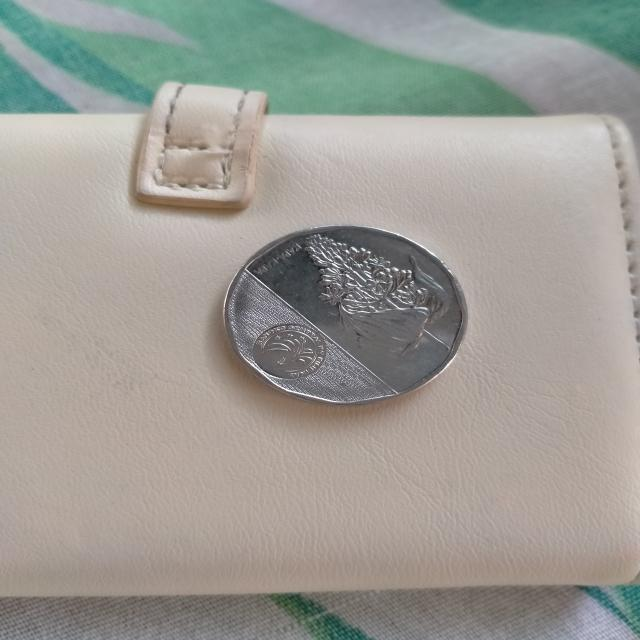10_New_Back: (304, 221, 447, 361)
